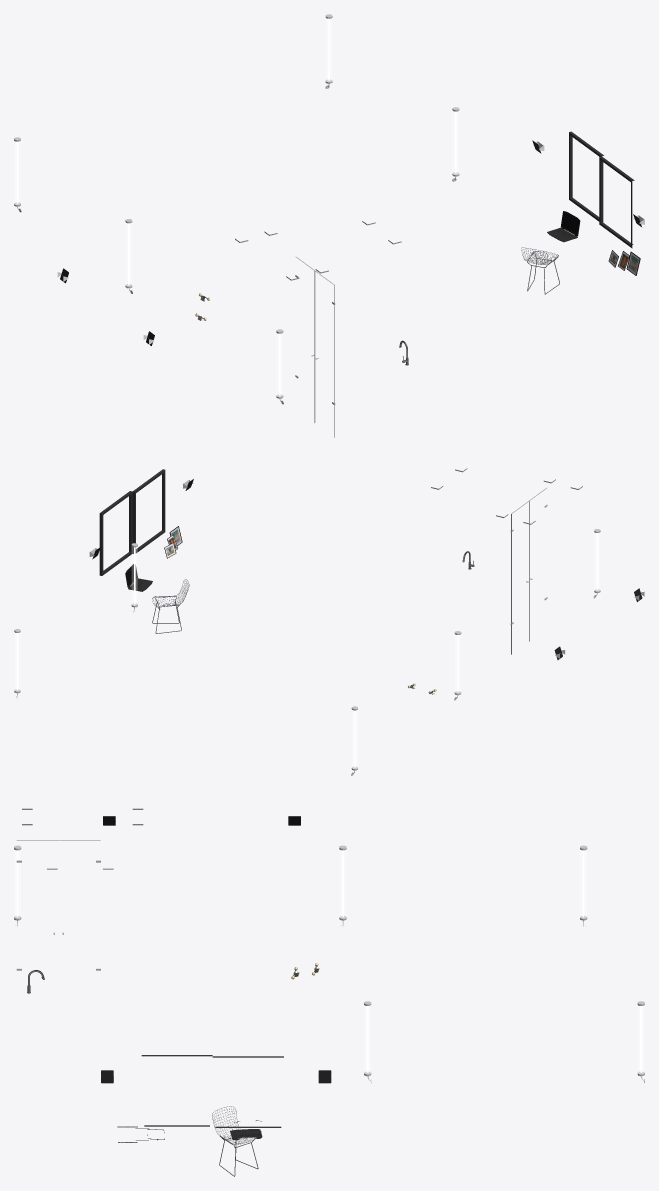
The model's file is NOBAKED_TEEN_0206_V6HARDDRACO.glb.
3 renders of one model, top to bottom at view 1: azimuth 30°, elevation 25°; view 2: azimuth 150°, elevation 25°; view 3: azimuth 270°, elevation 25°, orthographic. The views are drawn at different scales.
Parts seen in each view (by area): view 1: Cylinder.007; view 2: Cylinder.007; view 3: Cylinder.007.
Boxes of the visible parts, box(x1,y1,x2,y2) form: Cylinder.007: box(14, 14, 644, 437); Cylinder.007: box(14, 468, 644, 775); Cylinder.007: box(14, 808, 644, 1176).
Size of the model in its own units: 974 by 306 by 974.
22 materials, 7 textured.
